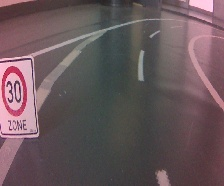zone 30 sign: (0, 54, 40, 139)
